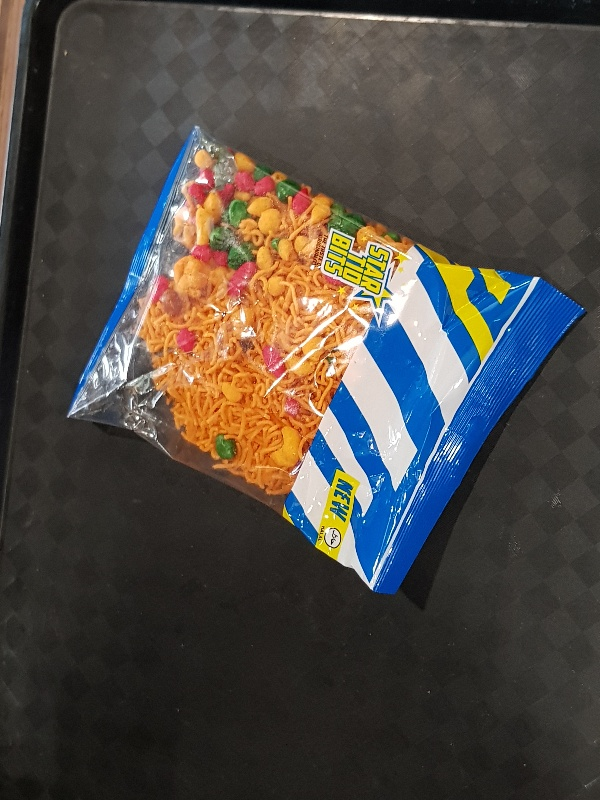Star Tidbits Mixer: (66, 122, 585, 595)
